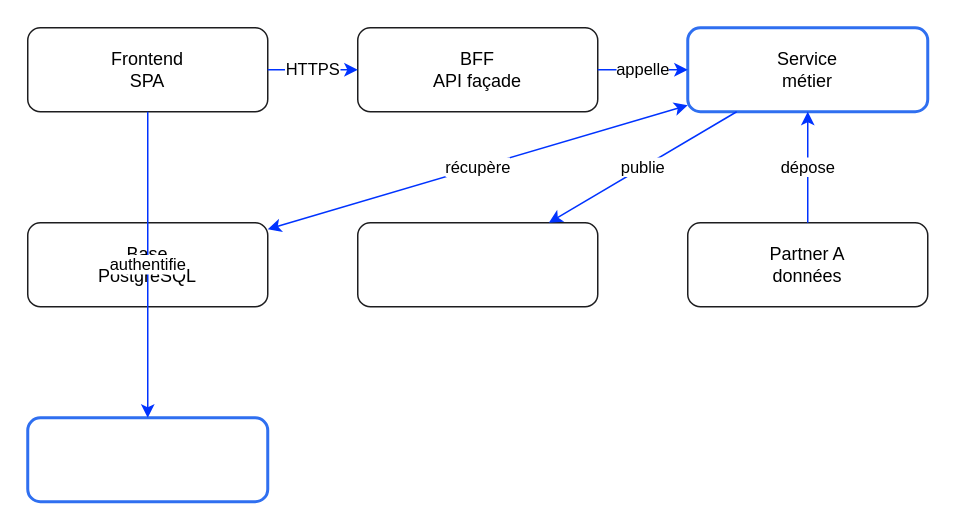
Some shapes in this 954 by 528 pixel diagram are drawn without their labels. The box of each missing label's shape, as (x1, y1, x2, y2) in pixels:
Bus Redis Streams: (356, 221, 598, 307)
IdP Keycloak · OIDC: (26, 416, 268, 502)
